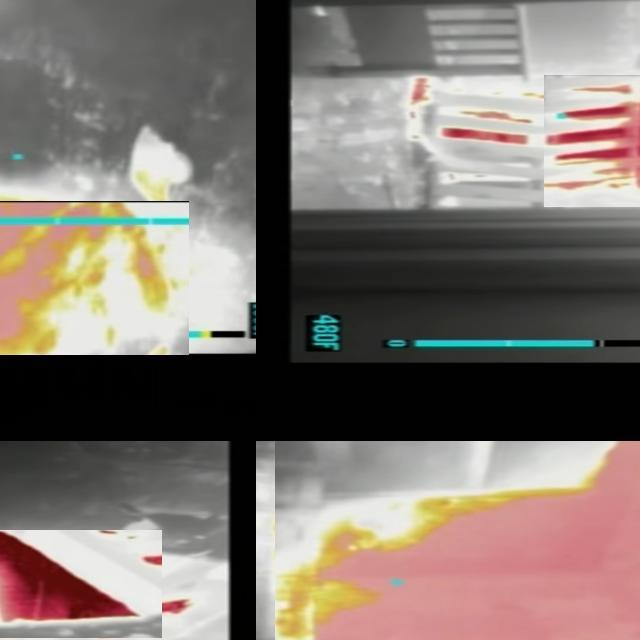fire: (275, 442, 640, 640), (1, 202, 189, 356), (1, 531, 162, 639), (543, 76, 640, 208)
